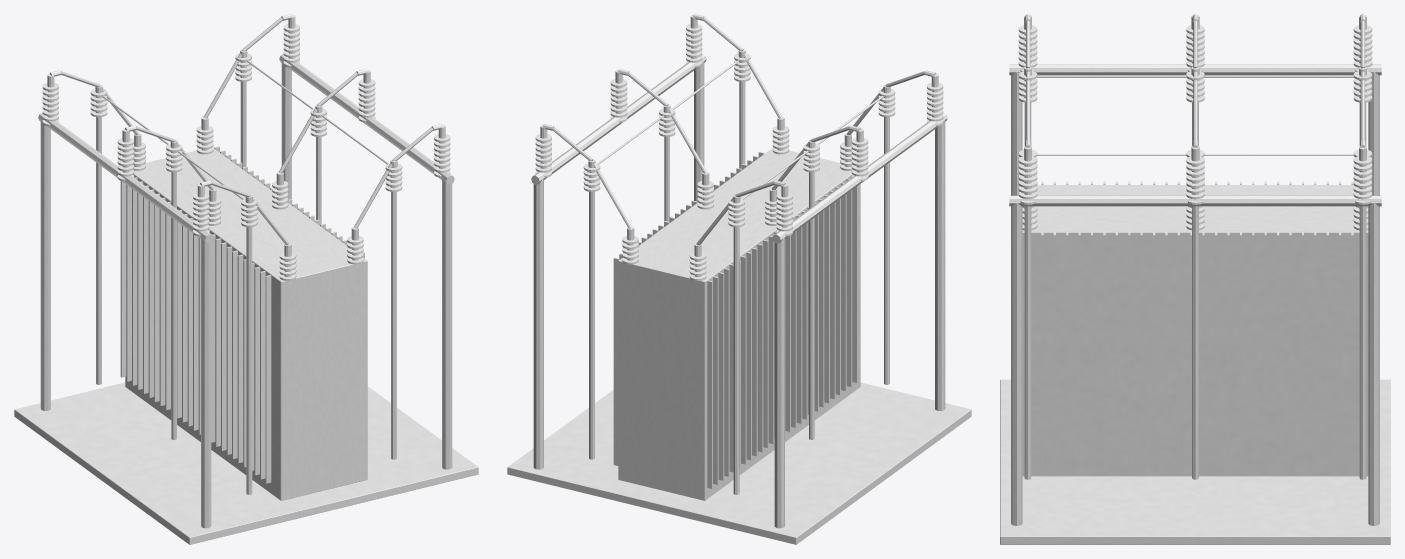
The model's file is substation23069.obj.
3 renders of one model, left to right at view 1: azimuth 30°, elevation 25°; view 2: azimuth 150°, elevation 25°; view 3: azimuth 270°, elevation 25°, orthographic. The views are drawn at different scales.
Parts seen in each view (by area): view 1: Transformer, main, Porcelain, Bus, KnifeOut; view 2: Transformer, main, Porcelain, Bus, KnifeOut; view 3: Transformer, main, Porcelain, Bus, KnifeIn.
Part boxes in pixels (box(x1,y1,x2,y2)): Transformer: box(120, 146, 367, 500); main: box(14, 53, 478, 544); Porcelain: box(42, 15, 450, 280); Bus: box(49, 14, 443, 245); KnifeOut: box(242, 17, 433, 161); Transformer: box(613, 147, 860, 500); main: box(507, 53, 971, 544); Porcelain: box(535, 15, 943, 280); Bus: box(542, 14, 936, 245); KnifeOut: box(552, 17, 743, 161); Transformer: box(1022, 181, 1368, 476); main: box(1000, 64, 1390, 544); Porcelain: box(1018, 15, 1372, 230); Bus: box(1025, 14, 1365, 147); KnifeIn: box(1026, 20, 1364, 67).
Bounding box in the file's own units: 6 × 6.88 × 6.3.
